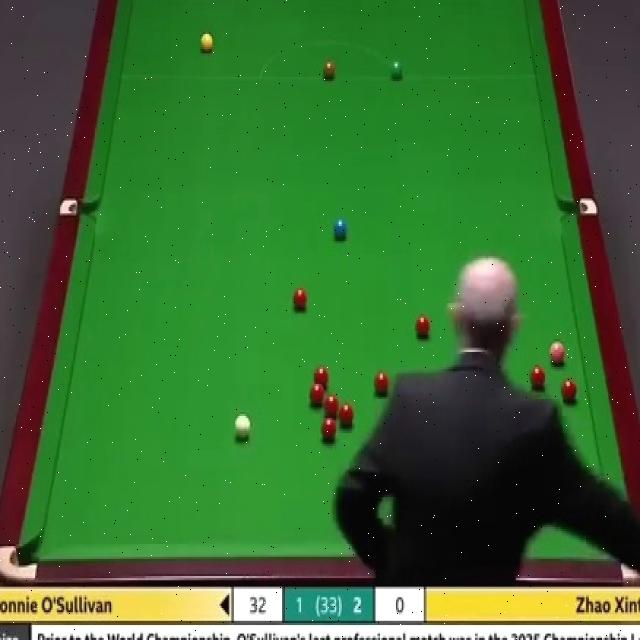blue-ball: (335, 216, 347, 241)
brown-ball: (322, 60, 337, 80)
green-ball: (389, 58, 404, 82)
pink-ball: (548, 341, 566, 364)
red-ball: (374, 369, 392, 398), (560, 378, 579, 403), (292, 288, 310, 312), (529, 364, 545, 390), (310, 383, 325, 409), (339, 402, 354, 427), (324, 398, 340, 420), (416, 314, 430, 339), (321, 418, 336, 441), (314, 366, 328, 389)
white-ball: (233, 413, 251, 440)
yellow-ball: (200, 31, 214, 55)
